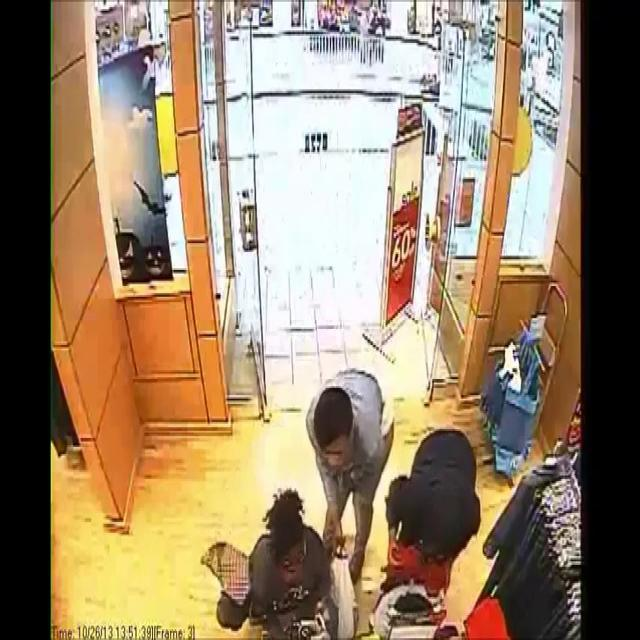Product: (394, 540, 440, 608)
normal: (298, 361, 393, 516)
shoplifting: (202, 438, 339, 640), (372, 426, 489, 640)
